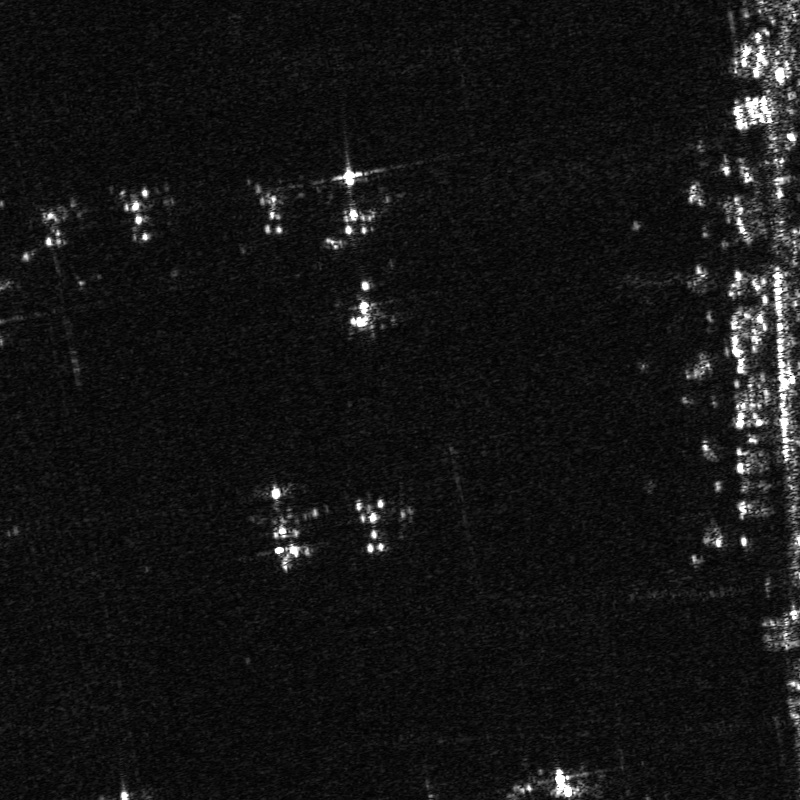A220: (350, 491, 423, 563)
ARJ21: (336, 270, 401, 338)
Boeing787: (527, 764, 597, 799)
other: (232, 468, 339, 581), (316, 165, 405, 250), (110, 179, 177, 247), (26, 194, 96, 257), (248, 177, 304, 242)
